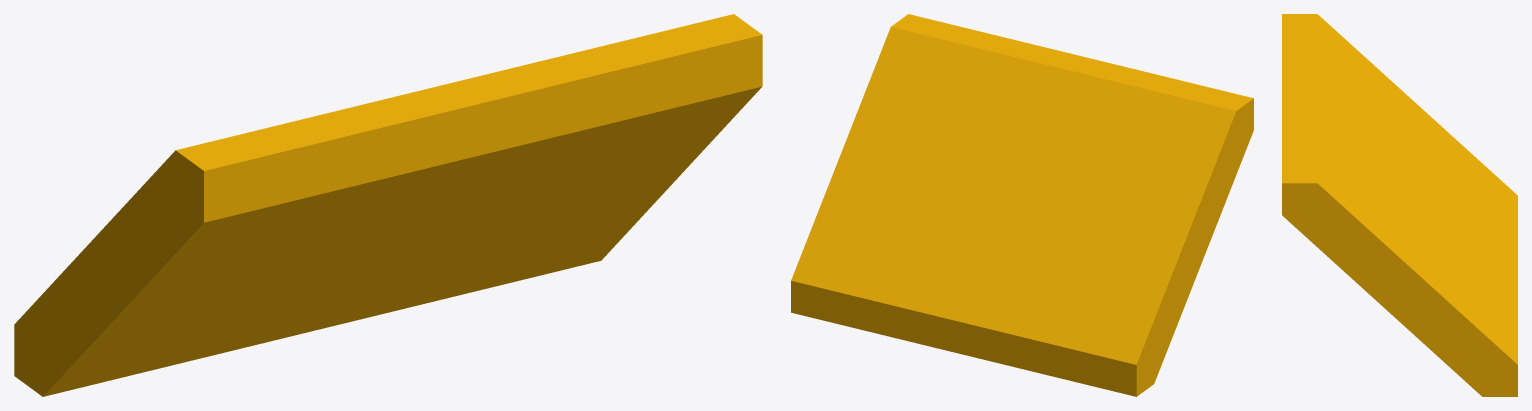
The model's file is fender_corner_1x3.dae.
The picture shows the model from 3 angles, left to right: view 1: azimuth 30°, elevation 25°; view 2: azimuth 150°, elevation 25°; view 3: azimuth 270°, elevation 25°; orthographic projection. The views are drawn at different scales.
Parts seen in each view (by area): view 1: Cube; view 2: Cube; view 3: Cube.
Part boxes in pixels (<box>): Cube: <box>14,14,762,396</box>; Cube: <box>791,14,1253,396</box>; Cube: <box>1282,14,1517,396</box>.
Bounding box in the file's own units: 0.5 × 0.2942 × 0.2942.
